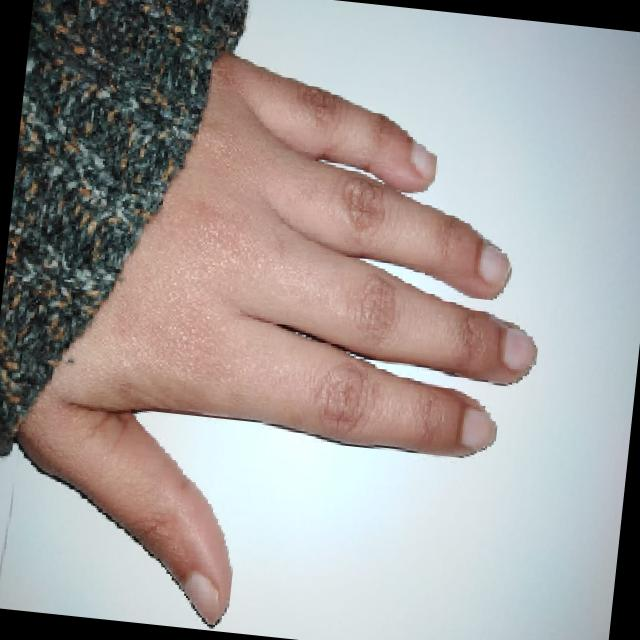Nail: (182, 571, 221, 624), (498, 327, 534, 371), (459, 406, 495, 449), (477, 239, 507, 290), (409, 140, 435, 181)
